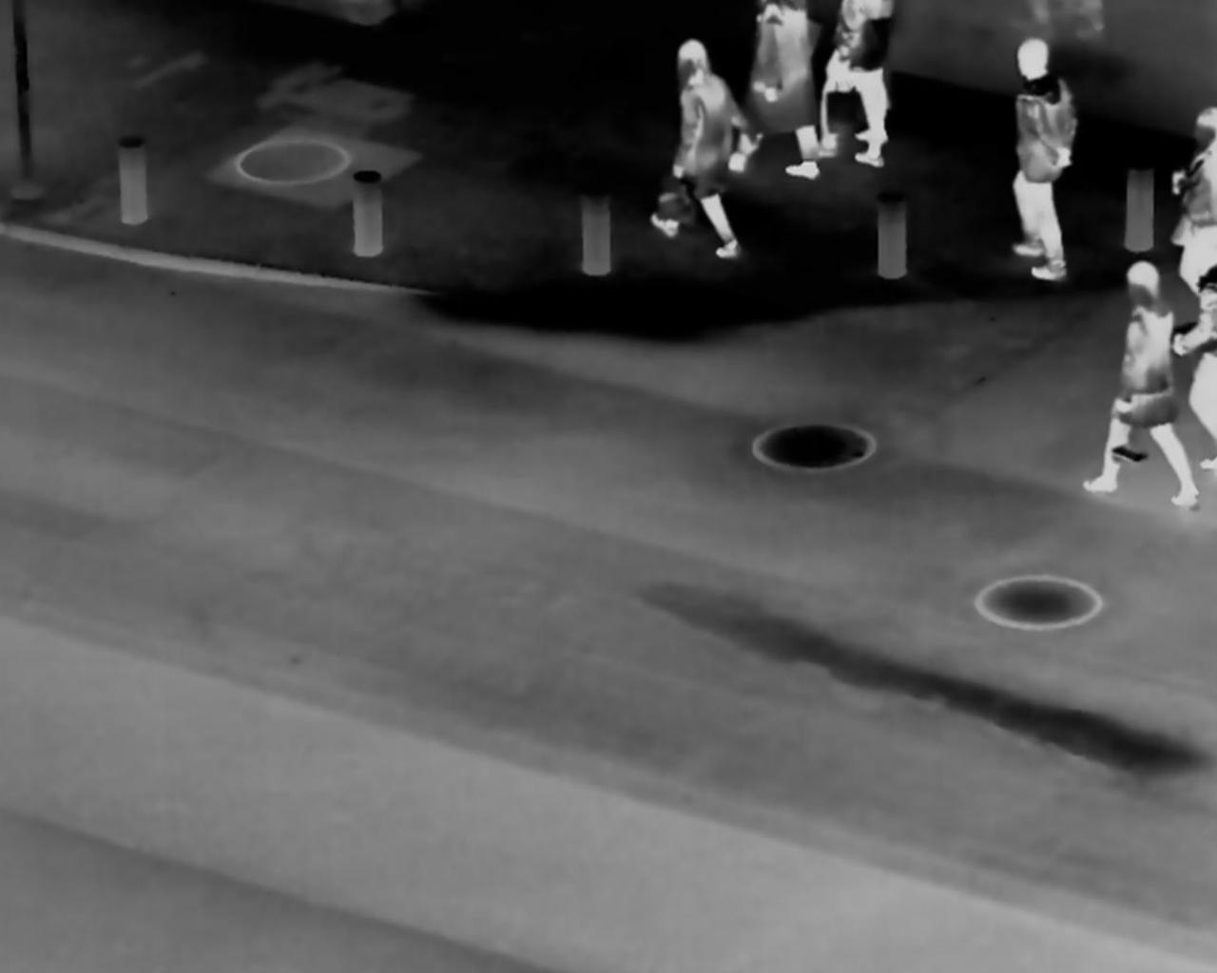person: (1098, 253, 1193, 525), (655, 37, 746, 268), (1003, 36, 1080, 296), (737, 4, 824, 200), (1176, 86, 1217, 299)
